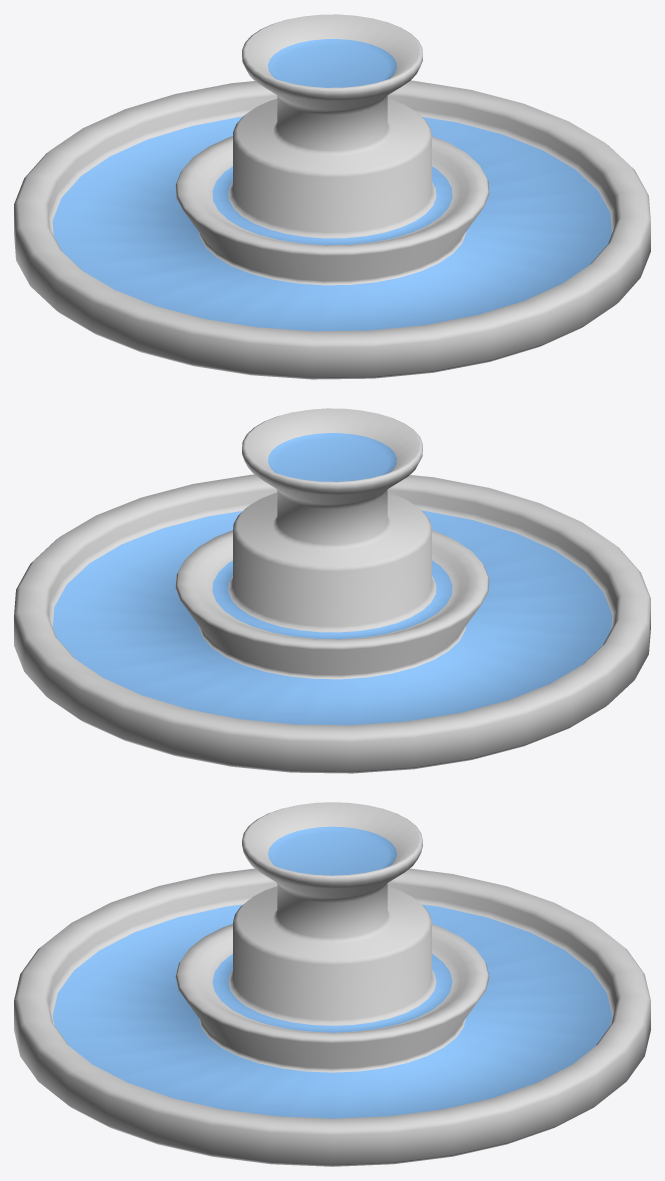
The model's file is Fountaiin.glb.
The picture shows the model from 3 angles, top to bottom: view 1: azimuth 30°, elevation 25°; view 2: azimuth 150°, elevation 25°; view 3: azimuth 270°, elevation 25°; orthographic projection.
Parts seen in each view (by area): view 1: Cylinder; view 2: Cylinder; view 3: Cylinder.
Part boxes in pixels (x1,y1,x2,y2): Cylinder: (14,14,650,379); Cylinder: (14,408,650,773); Cylinder: (14,802,650,1166).
Size of the model in its own units: 1.43 by 0.4821 by 1.43.
